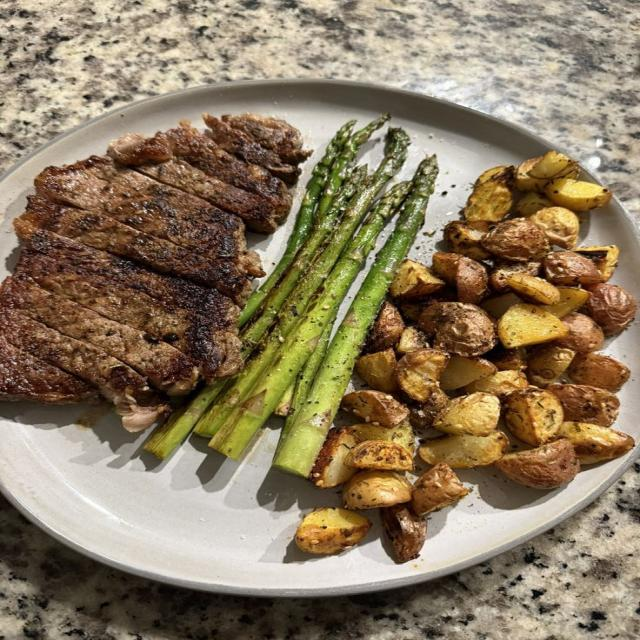asparagus: (196, 129, 408, 436), (210, 183, 410, 458), (274, 156, 438, 476), (242, 116, 387, 343), (239, 121, 355, 328), (239, 121, 355, 327), (241, 166, 366, 345), (315, 115, 390, 219), (241, 257, 314, 359), (278, 323, 333, 448), (274, 384, 295, 416)
beef steak: (16, 232, 239, 377), (16, 196, 248, 301), (0, 277, 197, 395), (0, 305, 164, 430), (109, 125, 290, 232), (99, 172, 260, 271), (136, 159, 275, 232), (0, 337, 97, 404), (204, 116, 298, 183), (223, 114, 300, 162), (35, 160, 108, 208), (108, 134, 172, 164)
frayed potatoe: (418, 302, 496, 356), (495, 439, 579, 489), (504, 388, 563, 446), (296, 508, 371, 553), (418, 431, 509, 468), (556, 422, 634, 465), (546, 384, 619, 426), (410, 463, 468, 515), (498, 305, 568, 348), (481, 218, 550, 261), (434, 392, 499, 436), (462, 166, 514, 221), (310, 427, 356, 488), (397, 348, 448, 401), (381, 503, 426, 562), (343, 470, 411, 509), (587, 284, 636, 335), (341, 391, 408, 427), (568, 352, 628, 391), (390, 260, 444, 301), (530, 207, 579, 250), (443, 221, 497, 260), (545, 178, 610, 210), (529, 343, 576, 387), (553, 312, 603, 353), (363, 301, 403, 352), (346, 440, 412, 470), (462, 370, 528, 400), (544, 252, 602, 286), (440, 356, 496, 390), (356, 348, 397, 393), (506, 273, 558, 304), (456, 256, 489, 303), (576, 245, 617, 281), (543, 288, 590, 318), (530, 151, 577, 179), (516, 159, 549, 192), (433, 252, 463, 283)
